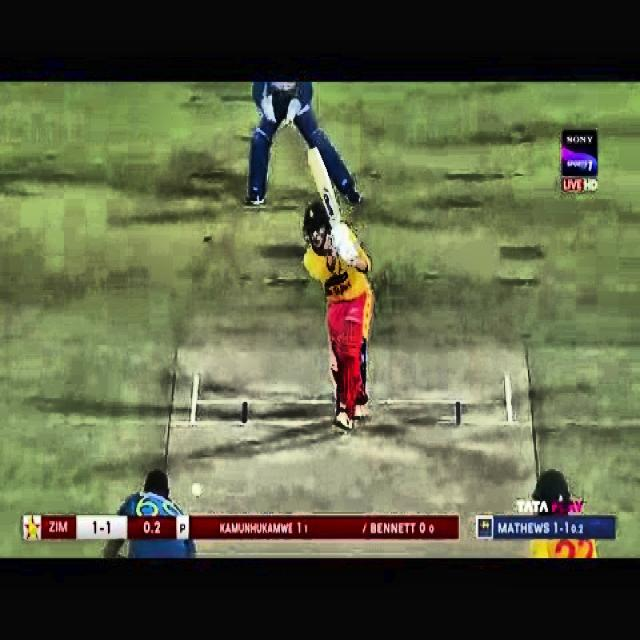Right-stump: (362, 346, 366, 402)
